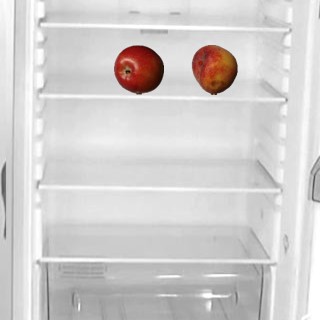Apple Braeburn: (113, 44, 163, 94)
Peach: (189, 44, 239, 94)
